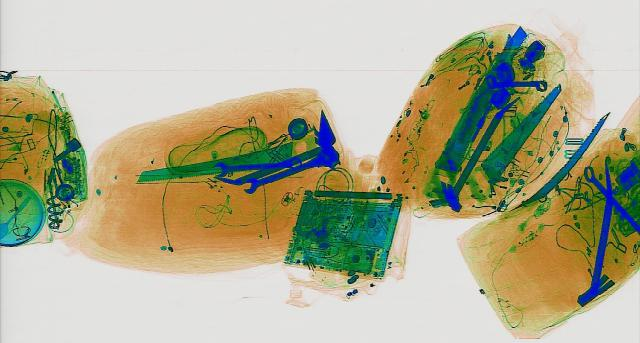Wrench: (210, 154, 304, 175), (482, 71, 548, 92)
